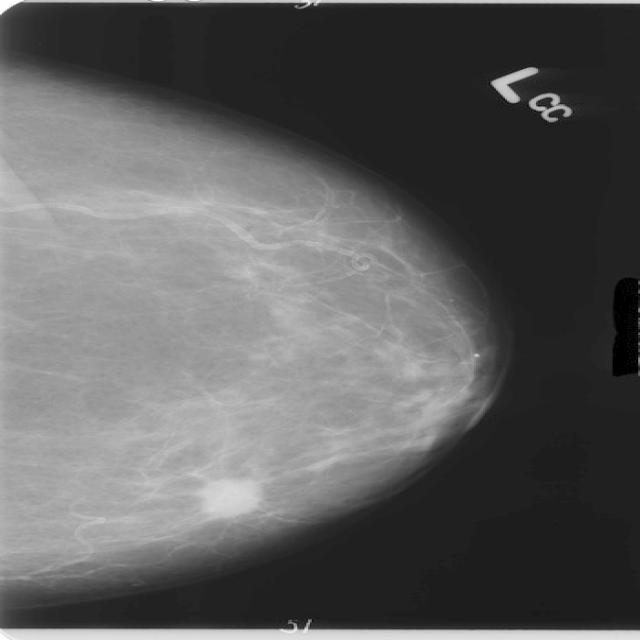tumour: (198, 477, 262, 517)
